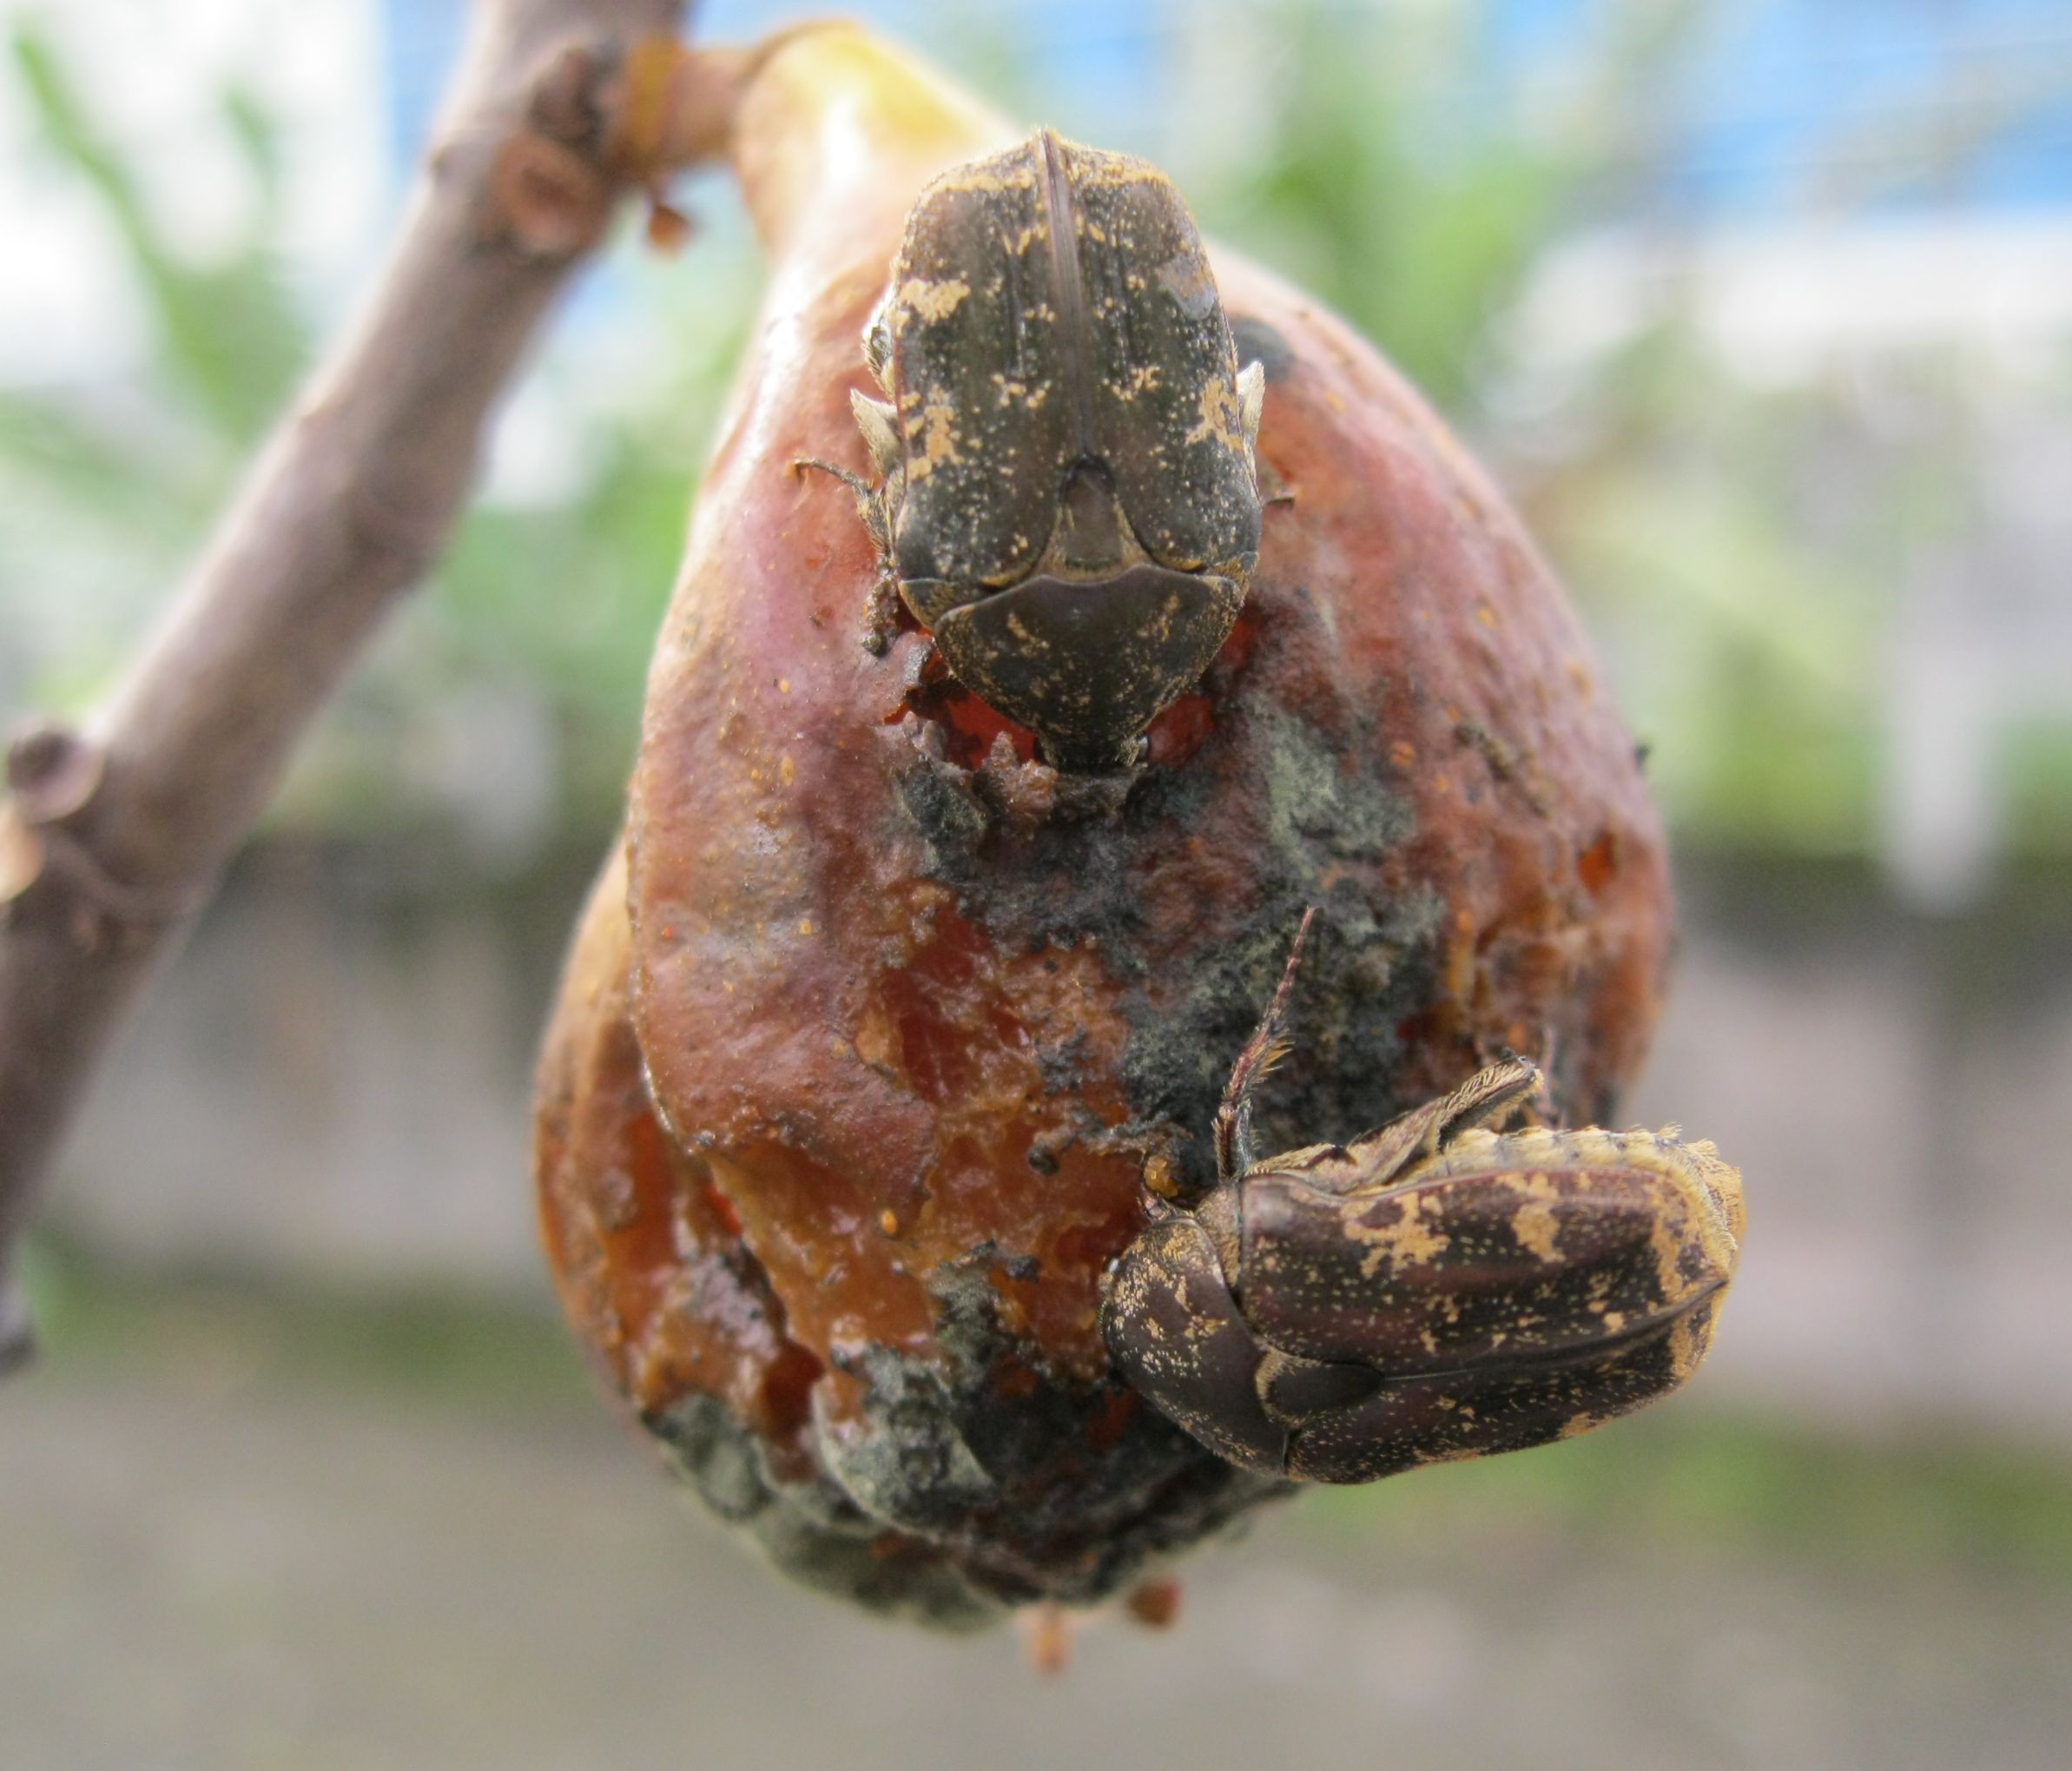Protaetia_fusca: (1096, 886, 1809, 1497), (846, 114, 1270, 824)
